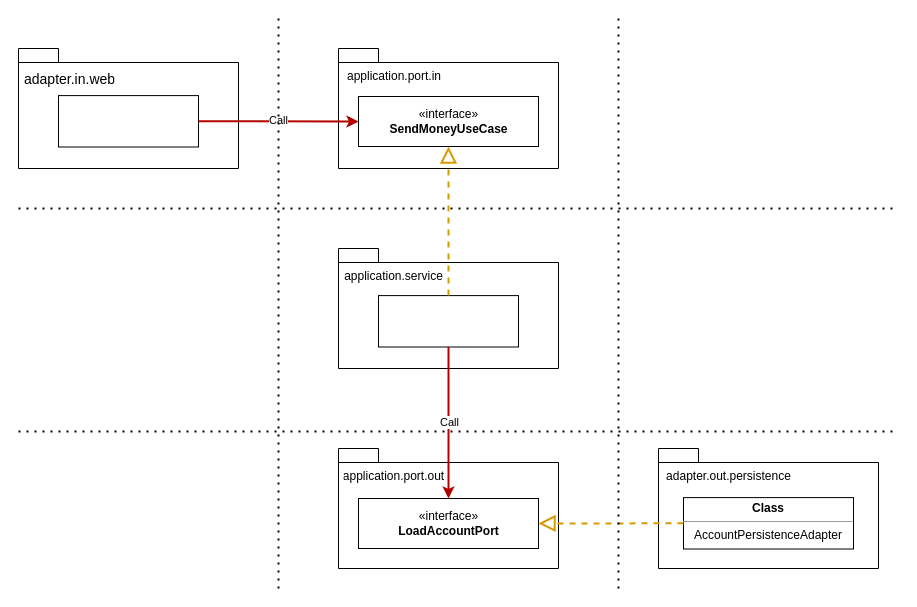
Image size: 917x607. Some labels were removed from this diagram. Here are the shapes that lost their labels. From the top down, the box of each, then its label:
(58, 95, 198, 147): Class AccountController
(378, 295, 518, 347): Class SendMoneyService
